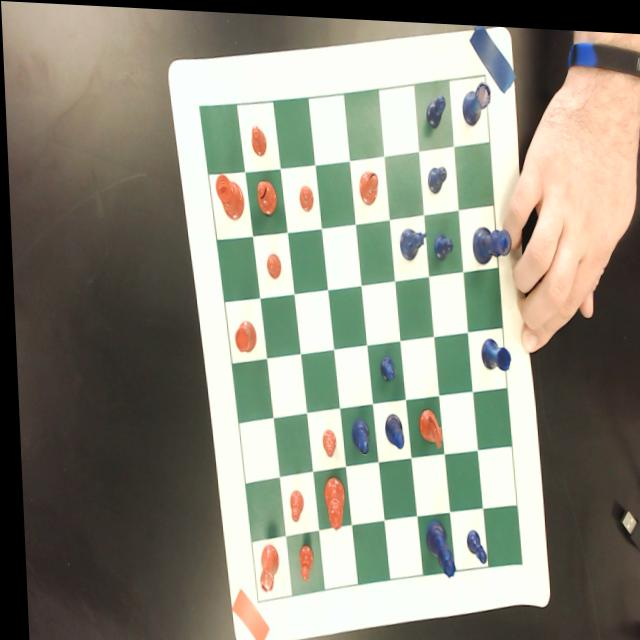B: (379, 408, 400, 445), (346, 415, 366, 450)
K: (468, 218, 509, 261)
N: (397, 221, 425, 256)
P: (423, 86, 445, 125), (460, 524, 481, 559), (424, 160, 446, 190), (430, 228, 451, 257), (375, 350, 392, 379)
Q: (419, 515, 451, 574)
R: (459, 75, 491, 122), (477, 331, 508, 366)
b: (253, 177, 275, 213), (356, 165, 377, 202)
k: (213, 171, 242, 218)
n: (413, 402, 439, 445)
p: (292, 539, 309, 579), (248, 122, 266, 155), (284, 486, 299, 519), (296, 181, 312, 210), (317, 424, 332, 454), (263, 248, 278, 278)
q: (318, 471, 341, 527)
r: (252, 538, 276, 593), (230, 315, 253, 351)
